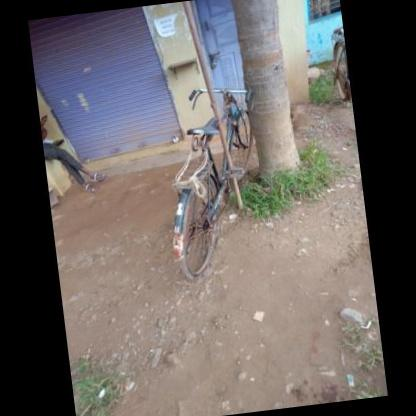Bicycle: (144, 71, 261, 287)
